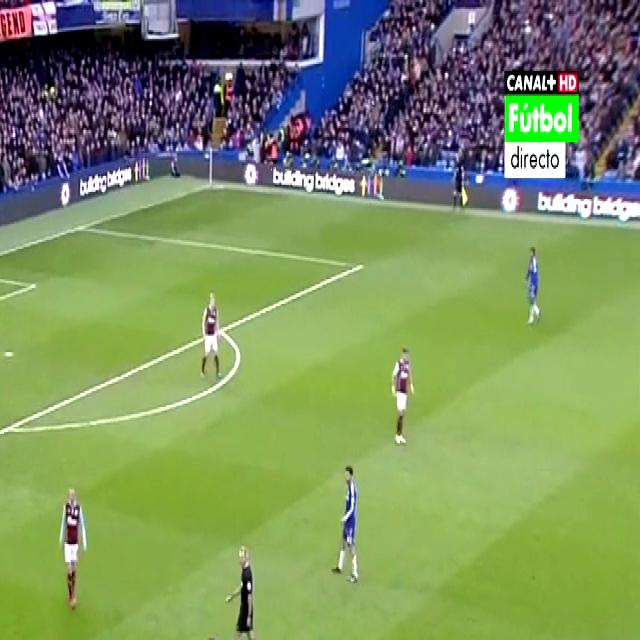referee: (224, 535, 268, 640), (448, 147, 472, 218)
soccer-player: (50, 476, 88, 617), (329, 455, 364, 592), (387, 335, 418, 454), (195, 284, 222, 385), (520, 234, 546, 330), (194, 626, 228, 640)
